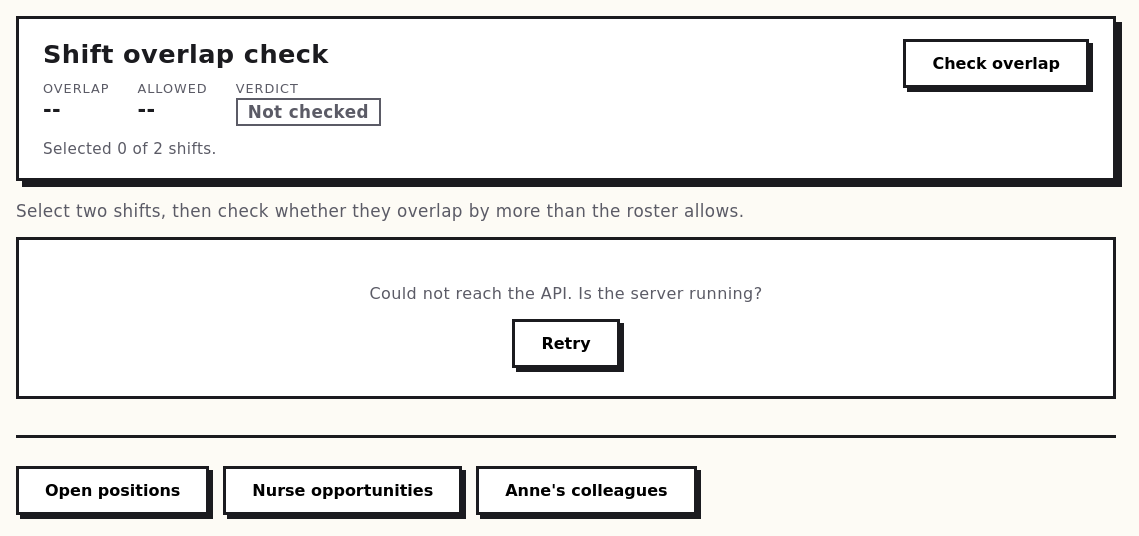
Test: a failed load shows the error and offers a retry
Expected: the text "Could not reach the API. Is the server running?" is shown, [370,284,763,303]
Click the button "Retry" at (566, 344), box [512,319,620,368]
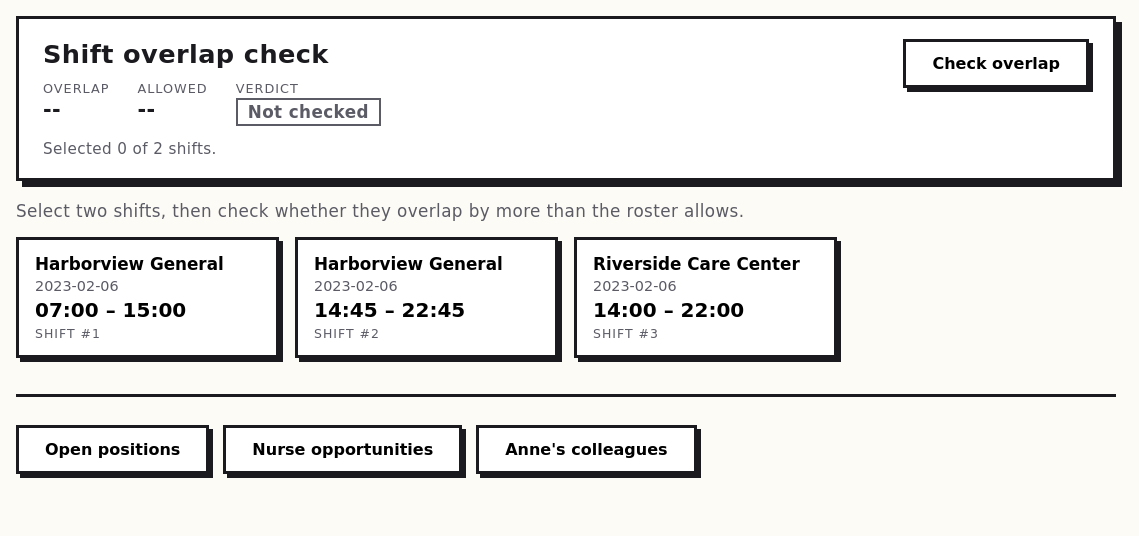
Expected: the text "Shift #1" is shown, [35,326,101,341]
